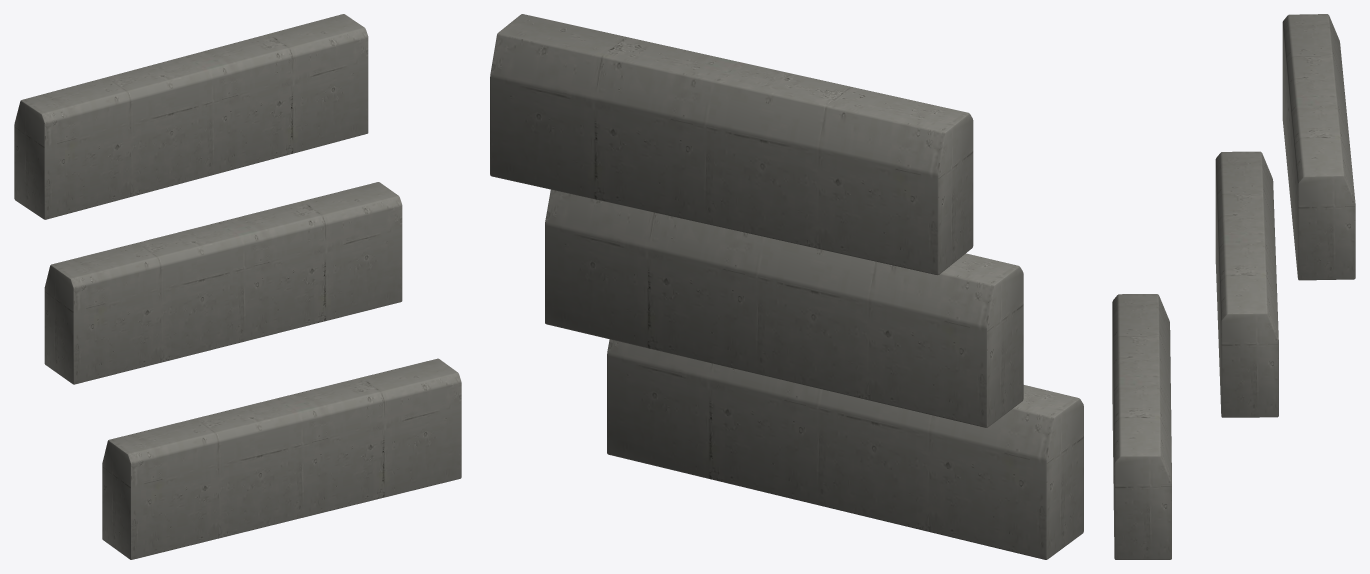
File: PAV-GUI-001_anim.glb
The picture shows the model from 3 angles, left to right: view 1: azimuth 30°, elevation 25°; view 2: azimuth 150°, elevation 25°; view 3: azimuth 270°, elevation 25°; orthographic projection. The views are drawn at different scales.
Visible parts, largest first — view 1: PAV-GUI-001_anim0, PAV-GUI-001_anim1, PAV-GUI-001_anim2; view 2: PAV-GUI-001_anim2, PAV-GUI-001_anim1, PAV-GUI-001_anim0; view 3: PAV-GUI-001_anim2, PAV-GUI-001_anim1, PAV-GUI-001_anim0.
Boxes of the visible parts, bbox=[...] form: PAV-GUI-001_anim0: bbox=[102, 358, 461, 559]; PAV-GUI-001_anim1: bbox=[44, 182, 402, 384]; PAV-GUI-001_anim2: bbox=[14, 14, 368, 219]; PAV-GUI-001_anim2: bbox=[490, 14, 973, 275]; PAV-GUI-001_anim1: bbox=[545, 189, 1023, 427]; PAV-GUI-001_anim0: bbox=[607, 339, 1083, 559]; PAV-GUI-001_anim2: bbox=[1282, 14, 1355, 280]; PAV-GUI-001_anim1: bbox=[1215, 151, 1278, 417]; PAV-GUI-001_anim0: bbox=[1112, 294, 1171, 559].
Bounding box in the file's own units: 1.02 × 1.1 × 0.6324.
1 material, 1 textured.
